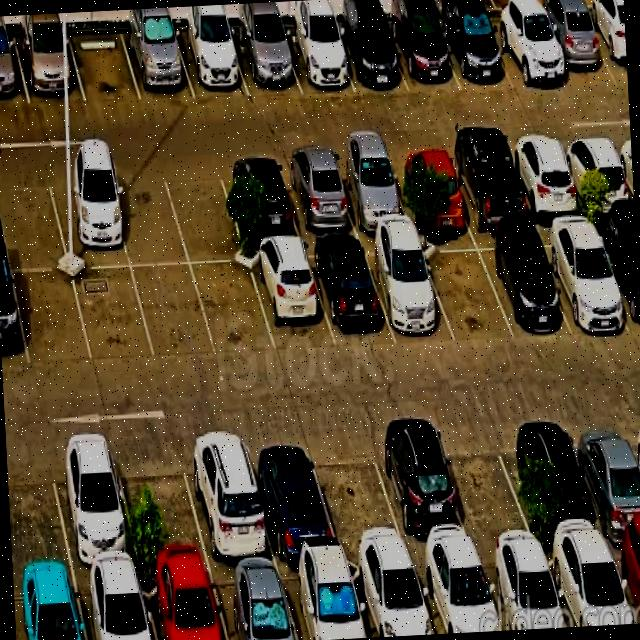empty: (437, 418, 538, 551), (307, 429, 409, 555), (113, 439, 210, 569), (418, 237, 513, 342), (6, 441, 72, 576), (162, 161, 246, 264), (108, 166, 189, 267), (132, 266, 216, 360), (73, 267, 155, 363), (13, 271, 92, 367), (192, 264, 275, 355), (0, 170, 69, 270), (483, 12, 565, 91), (68, 30, 141, 102)
occupied: (369, 423, 476, 556), (179, 430, 276, 565), (243, 433, 340, 561), (513, 415, 607, 546), (47, 439, 140, 571), (535, 223, 632, 331), (474, 233, 570, 337), (247, 244, 335, 354), (305, 240, 395, 346), (362, 239, 455, 341), (568, 413, 640, 541), (47, 169, 130, 269), (543, 542, 634, 627), (444, 144, 531, 229), (478, 550, 568, 631), (413, 553, 502, 634), (218, 158, 302, 243), (278, 560, 367, 640), (347, 559, 434, 638), (277, 155, 359, 238), (208, 566, 298, 640), (330, 153, 412, 233), (388, 149, 471, 227), (506, 139, 585, 220), (531, 11, 616, 86), (140, 568, 227, 640), (385, 13, 461, 93), (436, 13, 514, 90), (559, 136, 635, 214), (75, 571, 156, 640), (332, 20, 408, 92), (592, 222, 640, 333), (174, 29, 250, 99), (122, 29, 195, 100), (14, 32, 85, 104), (279, 26, 355, 93), (13, 574, 87, 640), (231, 28, 301, 96), (583, 8, 628, 83), (0, 268, 29, 369), (607, 538, 640, 624), (0, 35, 30, 105)
